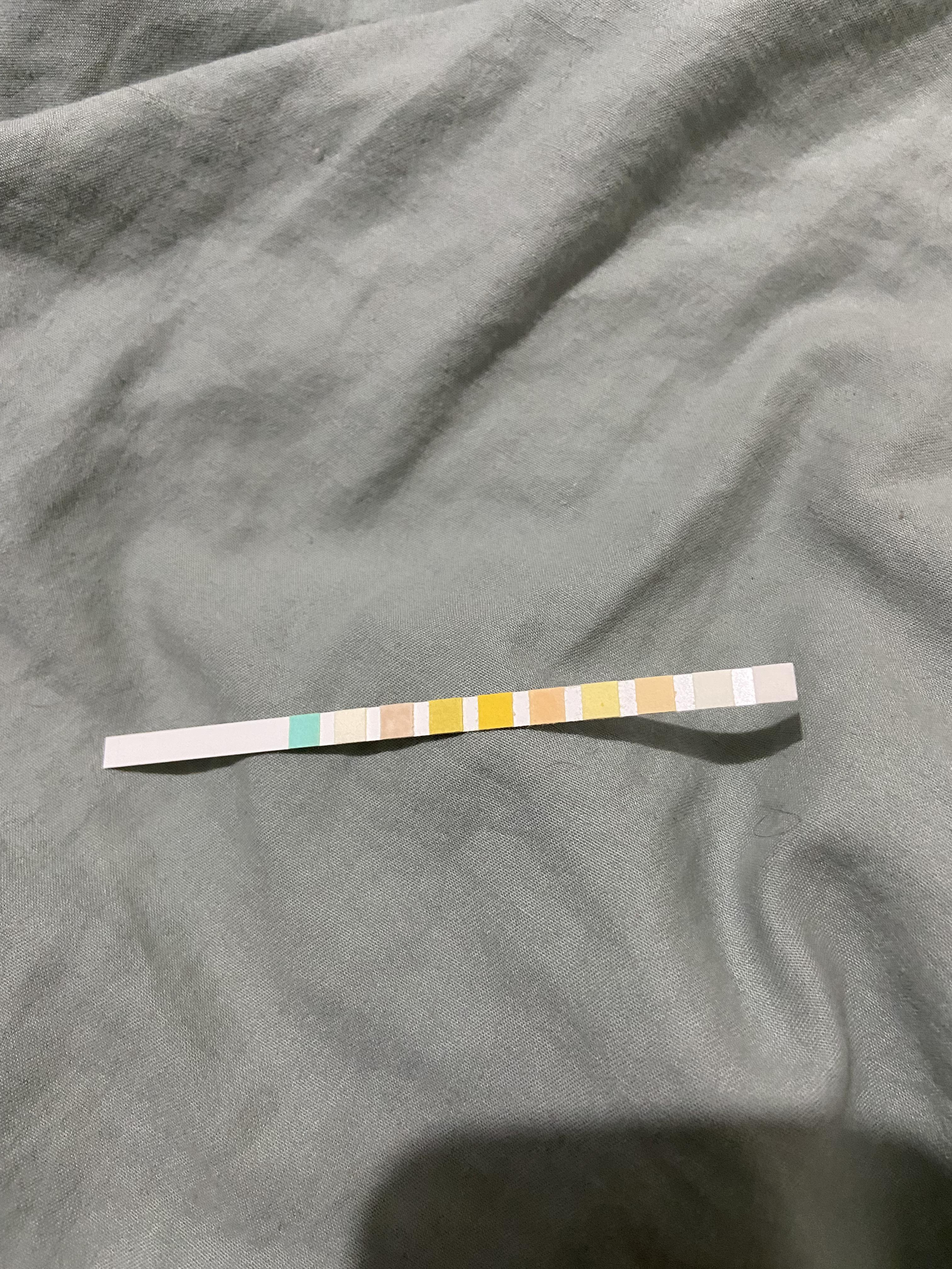Bilirubin: (338, 711, 363, 741)
Blood: (483, 696, 510, 727)
Glucose: (291, 716, 318, 745)
Ketone: (385, 706, 409, 736)
Leukocytes: (758, 669, 792, 698)
Nitrite: (697, 674, 731, 705)
Protein: (584, 685, 617, 717)
SpGravity: (433, 701, 457, 731)
Urobilinogen: (638, 679, 671, 710)
pH: (531, 692, 562, 721)
strip: (104, 664, 798, 769)
